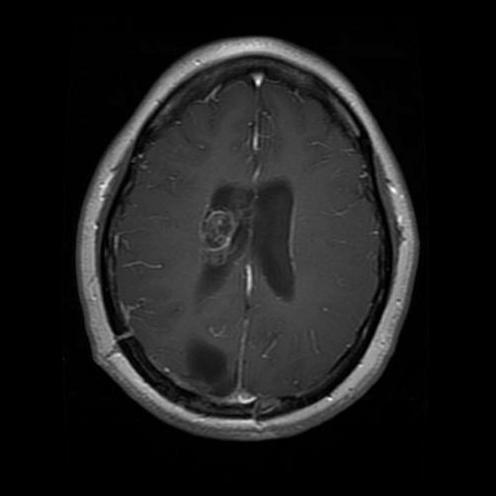Tumour-Glioma: (196, 205, 244, 260)
